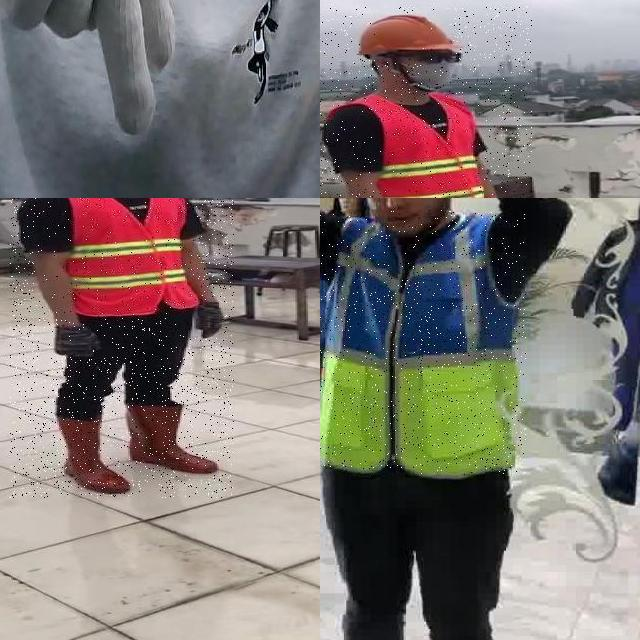BOOTS: (45, 405, 134, 497), (128, 402, 228, 474)
GLASS: (366, 48, 467, 67)
GLOVE: (0, 0, 176, 137), (51, 320, 103, 357), (197, 297, 223, 341)
HELMET: (354, 13, 455, 59)
VEST: (320, 210, 526, 476), (36, 198, 200, 317), (340, 95, 493, 198)
